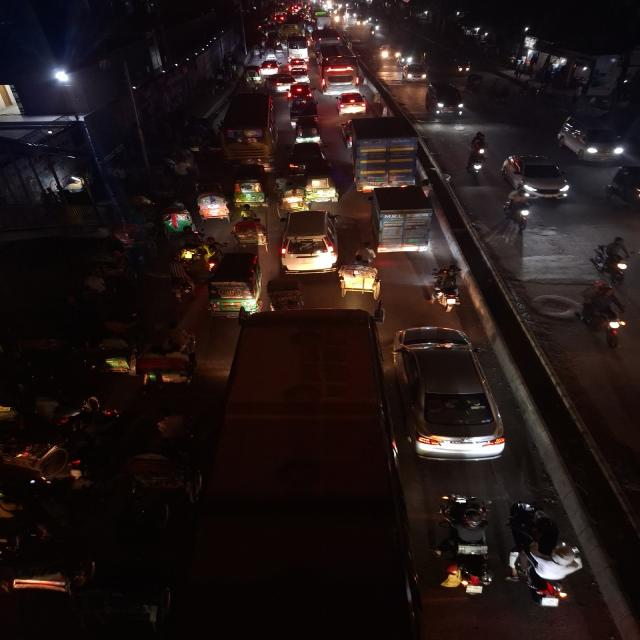bus: (205, 296, 400, 622), (221, 99, 278, 162), (316, 52, 362, 92), (313, 30, 343, 50), (285, 40, 311, 62)
car: (392, 321, 537, 471), (277, 208, 341, 276), (561, 110, 627, 166), (507, 149, 574, 202), (419, 84, 472, 125), (333, 92, 373, 116), (406, 59, 428, 86), (268, 74, 292, 92), (292, 68, 310, 83), (262, 60, 278, 74), (288, 58, 304, 68)
cng: (204, 248, 267, 318), (234, 161, 269, 213), (305, 171, 338, 205), (293, 119, 323, 142), (452, 57, 476, 78), (242, 65, 264, 84)
motorcycle: (505, 491, 584, 621), (431, 490, 496, 605), (572, 282, 626, 352), (426, 263, 471, 316), (589, 237, 637, 285), (499, 184, 532, 236), (466, 143, 488, 184)
rickshaw: (120, 338, 202, 394), (339, 246, 387, 300), (193, 185, 232, 226), (157, 205, 195, 244), (273, 181, 305, 214)
truck: (343, 114, 430, 188), (365, 183, 444, 256), (286, 95, 320, 121)
